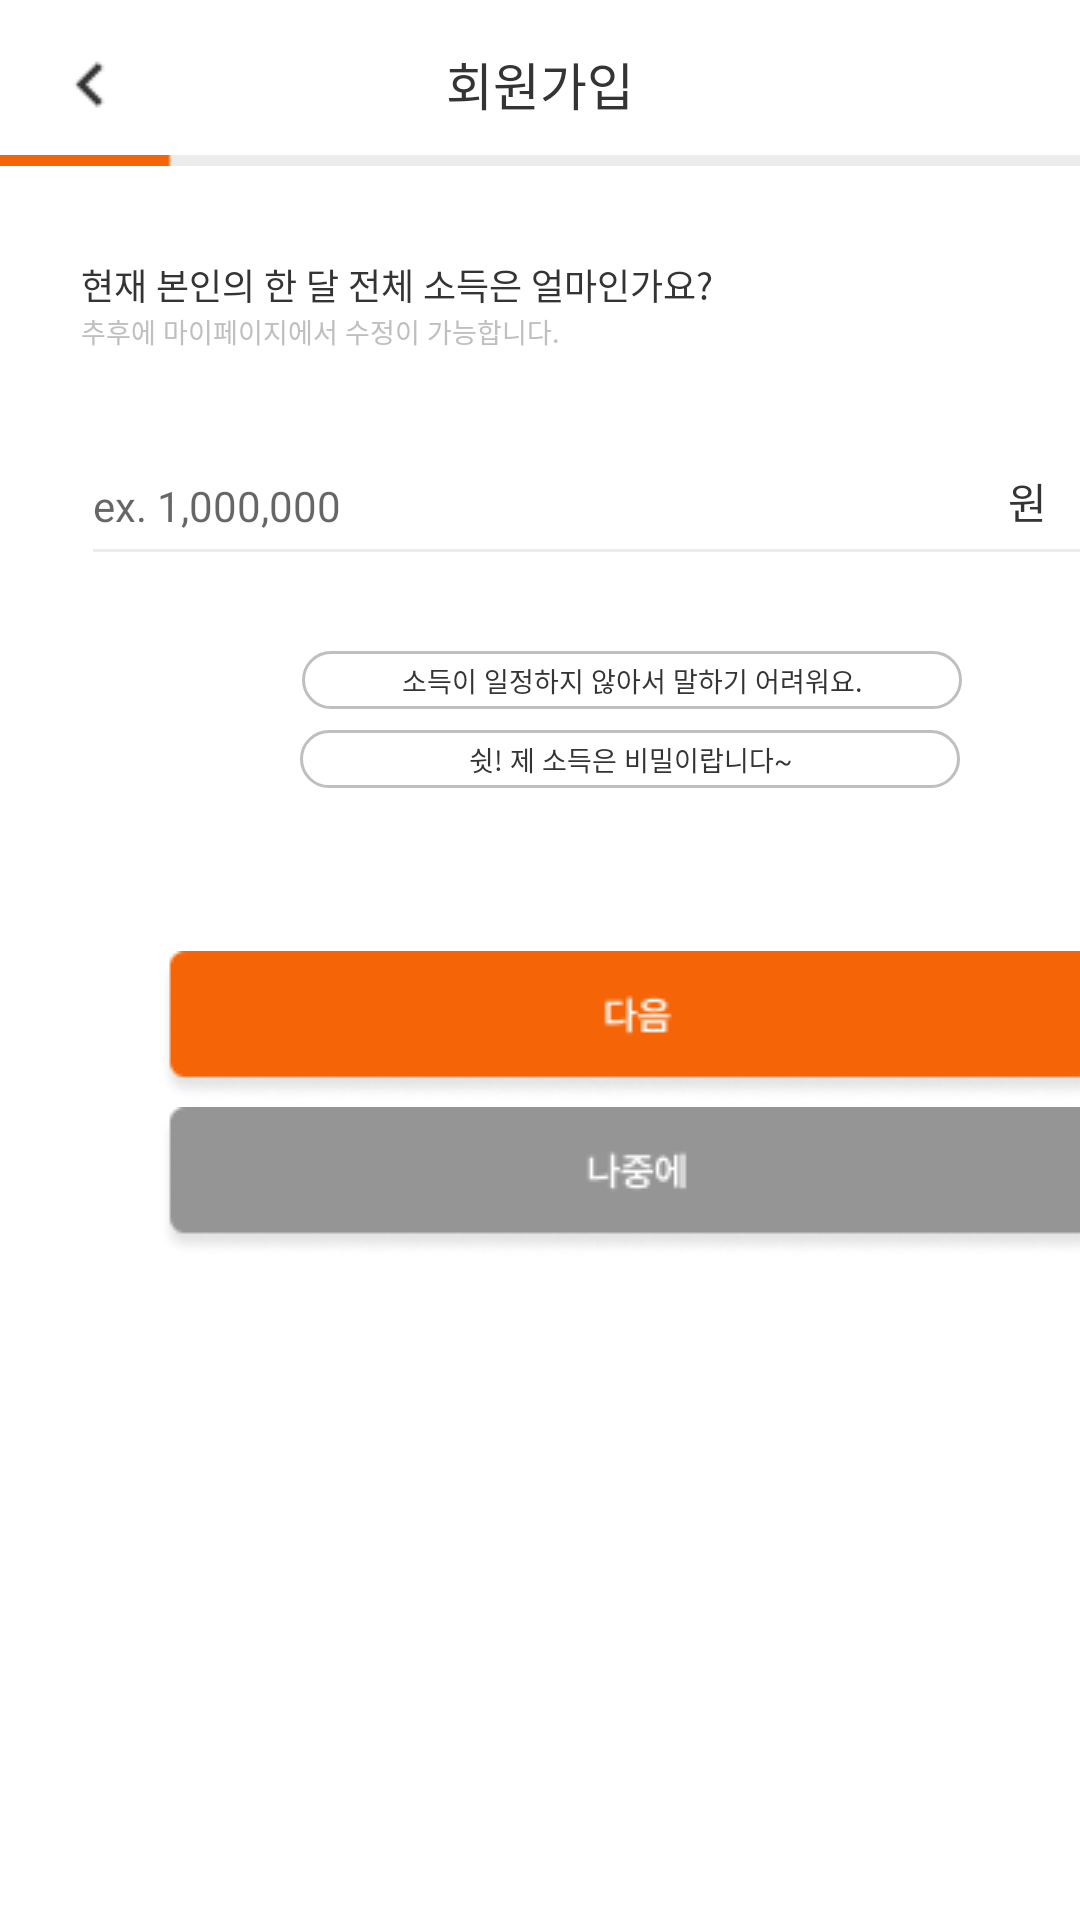

Named icons in this screenshot (1080w x 1920h) and their bounding boxes, (x1, y1, x2, y2):
back: (75, 61, 104, 108)
